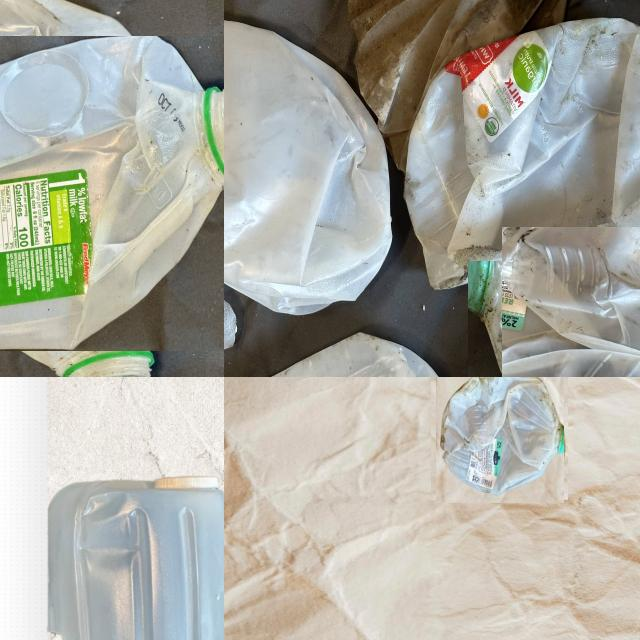milk-jug: (0, 15, 224, 373), (407, 20, 640, 290), (224, 11, 396, 314), (40, 475, 224, 640), (485, 244, 640, 377), (432, 377, 565, 502), (224, 329, 469, 377)
